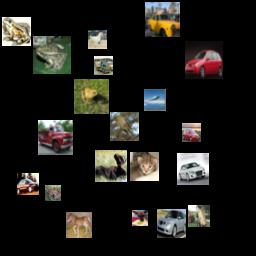airplane: (144, 89, 166, 111)
automobile: (185, 41, 223, 79), (145, 2, 180, 37), (177, 153, 209, 185), (157, 209, 186, 238), (17, 173, 39, 195), (182, 123, 201, 142)
bird: (110, 112, 139, 141)
cat: (130, 152, 159, 181)
deer: (95, 150, 127, 182)
dog: (132, 210, 148, 226)
frog: (33, 36, 71, 74), (74, 79, 109, 114), (2, 17, 31, 46), (45, 185, 61, 201)
truck: (38, 120, 73, 155), (188, 205, 210, 227), (94, 56, 113, 75)
